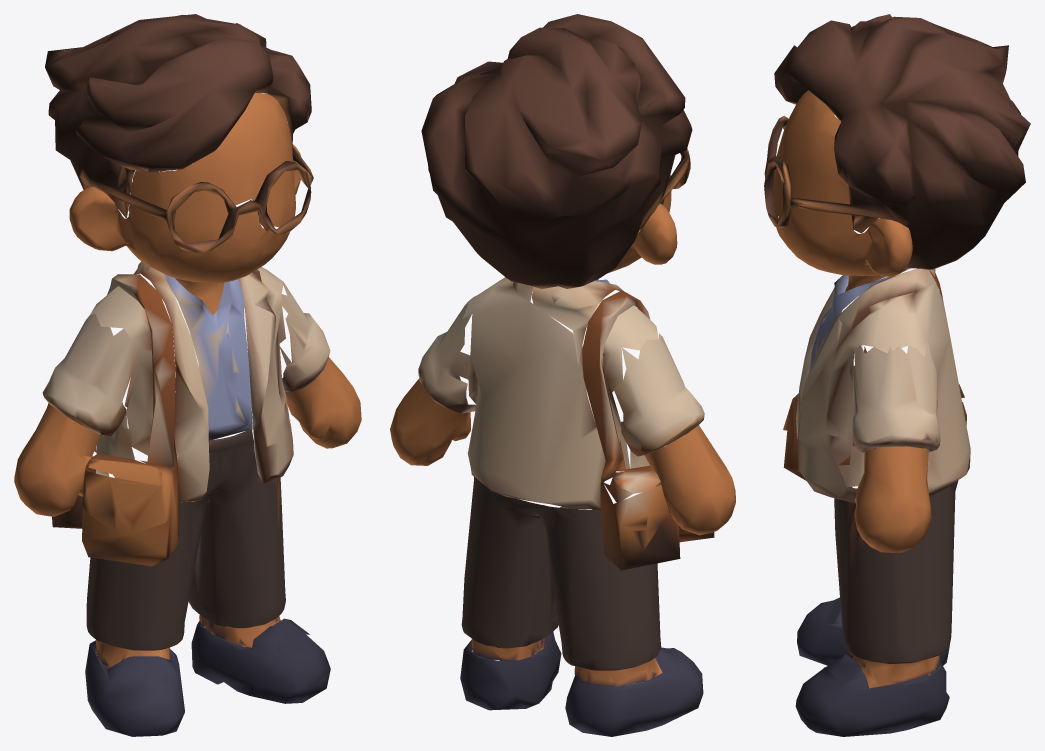
The picture shows the model from 3 angles, left to right: view 1: azimuth 30°, elevation 25°; view 2: azimuth 150°, elevation 25°; view 3: azimuth 270°, elevation 25°; orthographic projection.
Parts seen in each view (by area): view 1: top, hair, bottom, head, sleeve_r, shoe_l, shoe_r, hand_r, hand_l, sleeve_l; view 2: hair, top, bottom, shoe_r, sleeve_r, hand_r, shoe_l, hand_l, sleeve_l, head; view 3: hair, top, bottom, head, shoe_l, sleeve_l, hand_l, shoe_r.
Boxes of the visible parts, left/top/right/bottom form: top: left=52, top=261, right=293, bottom=566; hair: left=45, top=14, right=313, bottom=252; bottom: left=86, top=427, right=285, bottom=650; head: left=69, top=92, right=300, bottom=314; sleeve_r: left=42, top=314, right=162, bottom=485; shoe_l: left=191, top=615, right=330, bottom=703; shoe_r: left=85, top=640, right=184, bottom=736; hand_r: left=14, top=403, right=101, bottom=516; hand_l: left=285, top=357, right=361, bottom=448; sleeve_l: left=279, top=282, right=330, bottom=437; hair: left=421, top=14, right=692, bottom=288; top: left=460, top=277, right=714, bottom=570; bottom: left=461, top=477, right=661, bottom=670; shoe_r: left=565, top=647, right=703, bottom=736; sleeve_r: left=603, top=333, right=704, bottom=503; hand_r: left=644, top=425, right=735, bottom=535; shoe_l: left=460, top=632, right=561, bottom=710; hand_l: left=390, top=378, right=470, bottom=465; sleeve_l: left=418, top=301, right=476, bottom=413; head: left=596, top=177, right=677, bottom=280; hair: left=764, top=14, right=1030, bottom=269; top: left=783, top=268, right=970, bottom=503; bottom: left=834, top=480, right=958, bottom=664; head: left=773, top=90, right=912, bottom=291; shoe_l: left=795, top=654, right=949, bottom=736; sleeve_l: left=838, top=342, right=940, bottom=487; hand_l: left=854, top=446, right=931, bottom=552; shoe_r: left=797, top=597, right=949, bottom=669.
Bounding box in the file's own units: 0.5391 × 1.03 × 0.3762.
